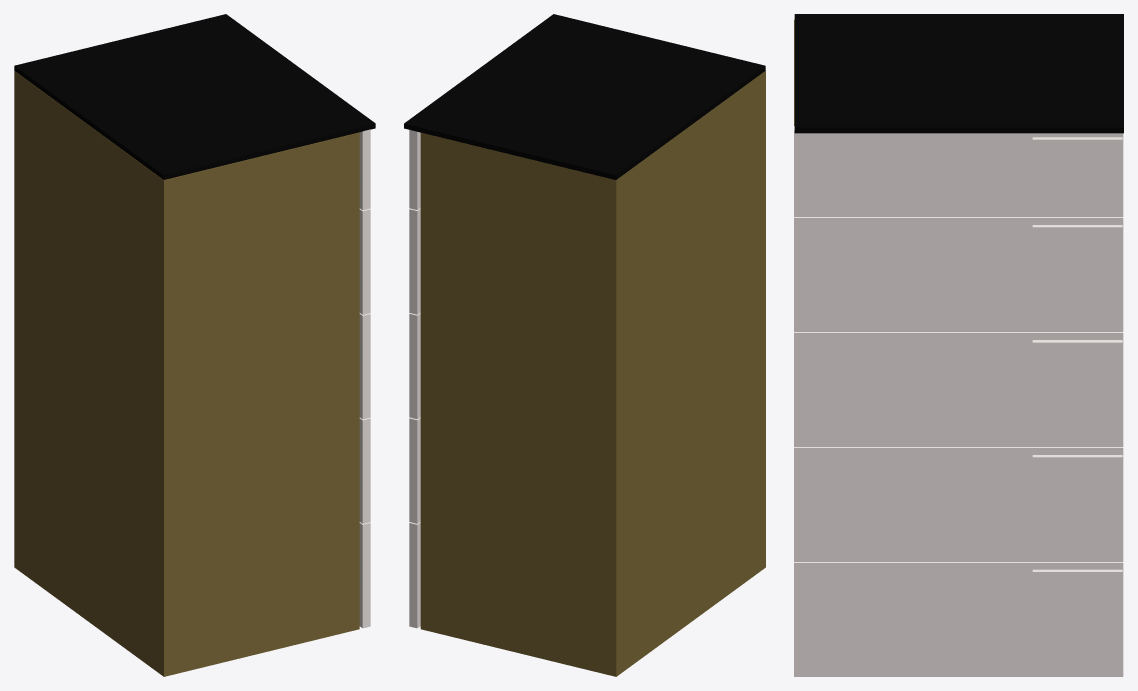
File: Locker.FBX
3 renders of one model, left to right at view 1: azimuth 30°, elevation 25°; view 2: azimuth 150°, elevation 25°; view 3: azimuth 270°, elevation 25°, orthographic. The views are drawn at different scales.
Parts seen in each view (by area): view 1: Box11, Box178, Box16, Box15, Box14, Box177, Box17; view 2: Box11, Box178, Box16, Box15, Box14, Box177, Box17; view 3: Box178, Box16, Box15, Box14, Box177, Box17.
Part boxes in pixels (x1=…): Box11: x1=14, y1=71, x2=359, y2=676; Box178: x1=14, y1=14, x2=375, y2=179; Box16: x1=359, y1=208, x2=370, y2=314; Box15: x1=359, y1=313, x2=370, y2=419; Box14: x1=359, y1=417, x2=370, y2=523; Box177: x1=359, y1=522, x2=370, y2=628; Box17: x1=359, y1=129, x2=370, y2=210; Box11: x1=420, y1=71, x2=765, y2=676; Box178: x1=404, y1=14, x2=765, y2=179; Box16: x1=409, y1=208, x2=420, y2=314; Box15: x1=409, y1=312, x2=420, y2=419; Box14: x1=409, y1=417, x2=420, y2=523; Box177: x1=409, y1=522, x2=420, y2=628; Box17: x1=409, y1=130, x2=420, y2=209; Box178: x1=794, y1=14, x2=1123, y2=133; Box16: x1=794, y1=217, x2=1123, y2=331; Box15: x1=794, y1=332, x2=1123, y2=446; Box14: x1=794, y1=447, x2=1123, y2=561; Box177: x1=794, y1=562, x2=1123, y2=676; Box17: x1=794, y1=126, x2=1123, y2=216.
Bounding box in the file's own units: 17.72 × 40.06 × 21.69.
